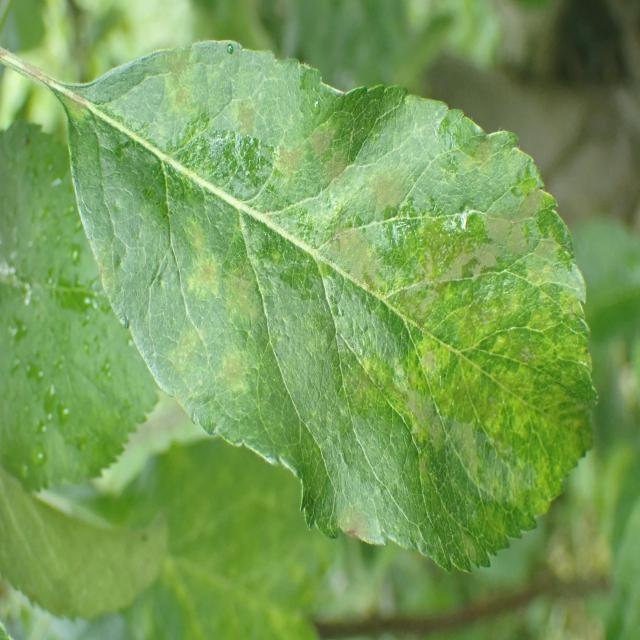scab: (43, 51, 606, 544)
